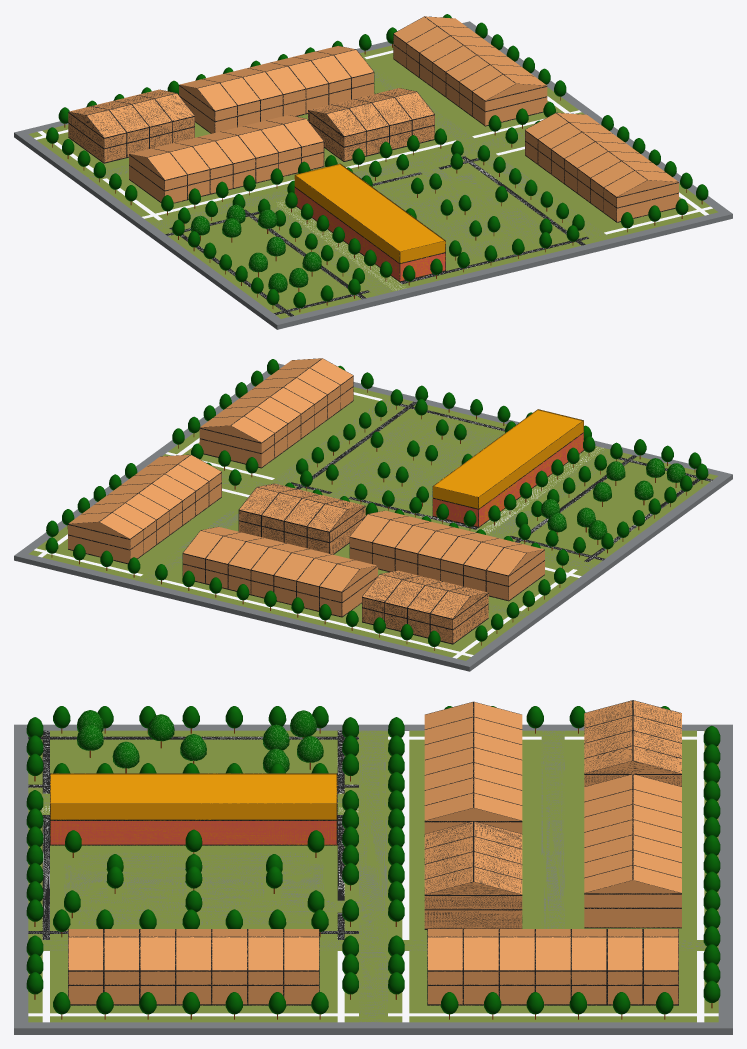
File: 450_townhome_commercial_A.dae
3 views of the same model, one above another, from view 1: azimuth 30°, elevation 25°; view 2: azimuth 150°, elevation 25°; view 3: azimuth 270°, elevation 25° (orthographic). The views are drawn at different scales.
Parts seen in each view (by area): view 1: group_1 (×17), Component_2 (×40), _10k_Commercial (×6); view 2: group_1 (×16), Component_2 (×40), _10k_Commercial (×6); view 3: group_1 (×14), Component_2 (×75), _10k_Commercial (×4), Tree_z_Icon_3_1 (×7).
Part boxes in pixels (x1=…): group_1 (×17): x1=14, y1=21, x2=732, y2=329; Component_2 (×40): x1=87, y1=17, x2=678, y2=221; _10k_Commercial (×6): x1=294, y1=163, x2=445, y2=282; group_1 (×16): x1=14, y1=363, x2=732, y2=671; Component_2 (×40): x1=68, y1=359, x2=525, y2=618; _10k_Commercial (×6): x1=432, y1=409, x2=583, y2=527; group_1 (×14): x1=14, y1=724, x2=732, y2=1034; Component_2 (×75): x1=68, y1=700, x2=681, y2=1004; _10k_Commercial (×4): x1=50, y1=773, x2=337, y2=845; Tree_z_Icon_3_1 (×7): x1=77, y1=710, x2=323, y2=768.
Bounding box in the file's own units: 97.5 × 97.5 × 8.19.
